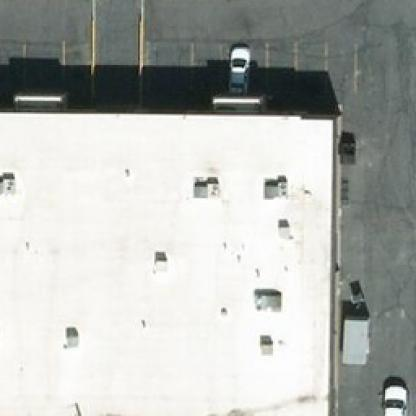car: (224, 43, 252, 94), (380, 376, 406, 414)
